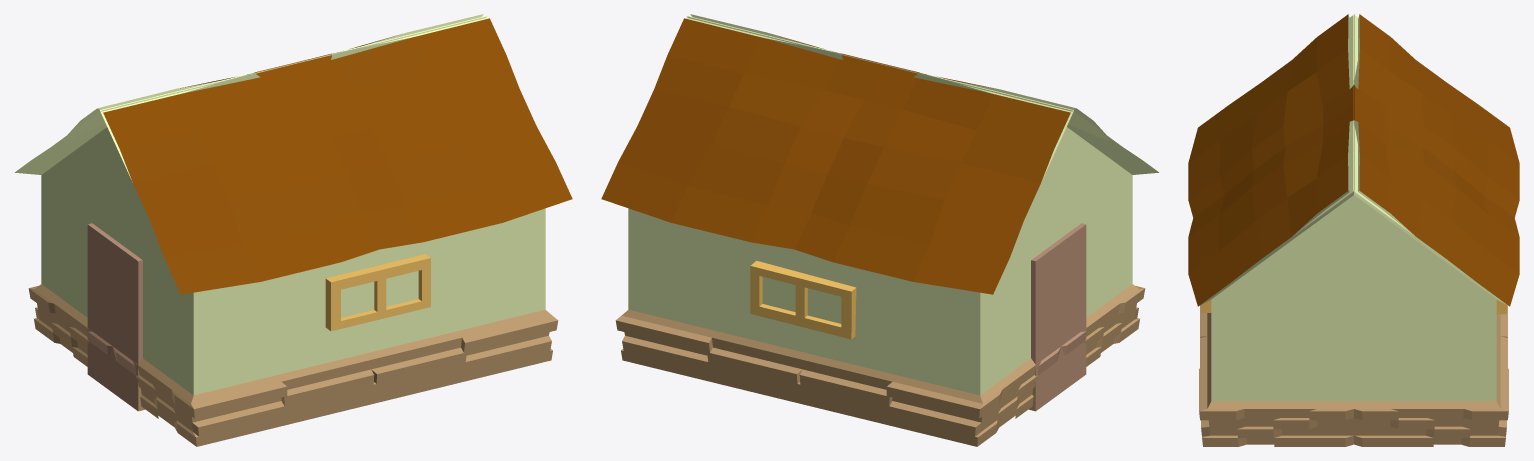
The model's file is Town_House4.fbx.
3 views of the same model, side by side, from view 1: azimuth 30°, elevation 25°; view 2: azimuth 150°, elevation 25°; view 3: azimuth 270°, elevation 25° (orthographic). The views are drawn at different scales.
Visible parts, largest first — view 1: Cube; view 2: Cube; view 3: Cube.
Boxes of the visible parts, x1=… form: Cube: x1=15, y1=14, x2=572, y2=446; Cube: x1=601, y1=14, x2=1158, y2=446; Cube: x1=1188, y1=14, x2=1519, y2=446.
Size of the model in its own units: 891 by 620 by 697.
